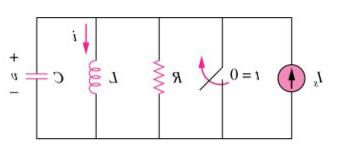inductor: (83, 53, 104, 100)
